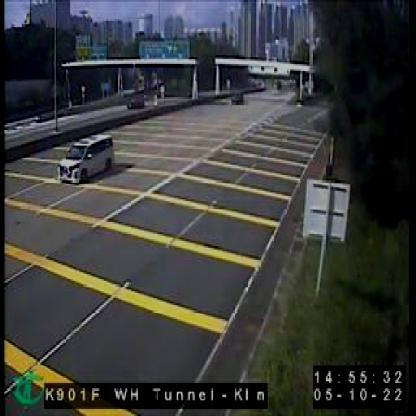Car: (56, 134, 109, 180)
